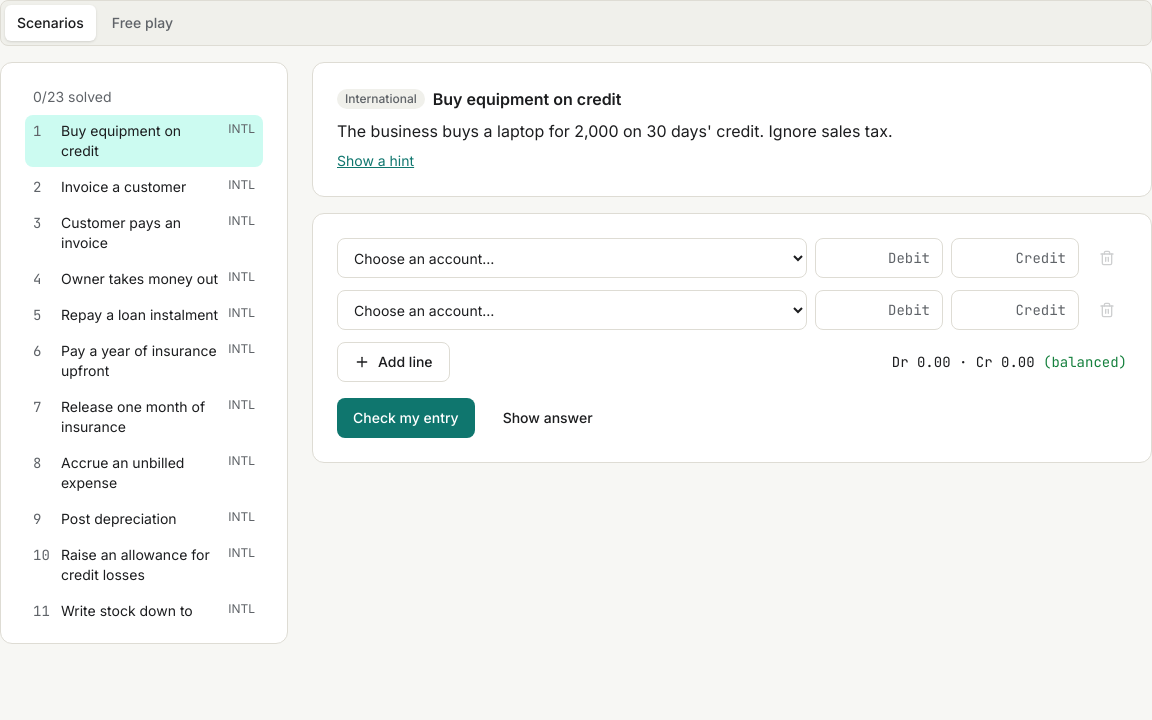
Test: JournalSimulator › explains a wrong side
Select "2000 · Accounts Payable" in the 1st dropdown named "account": (572, 258) left=337, top=238, right=807, bottom=278
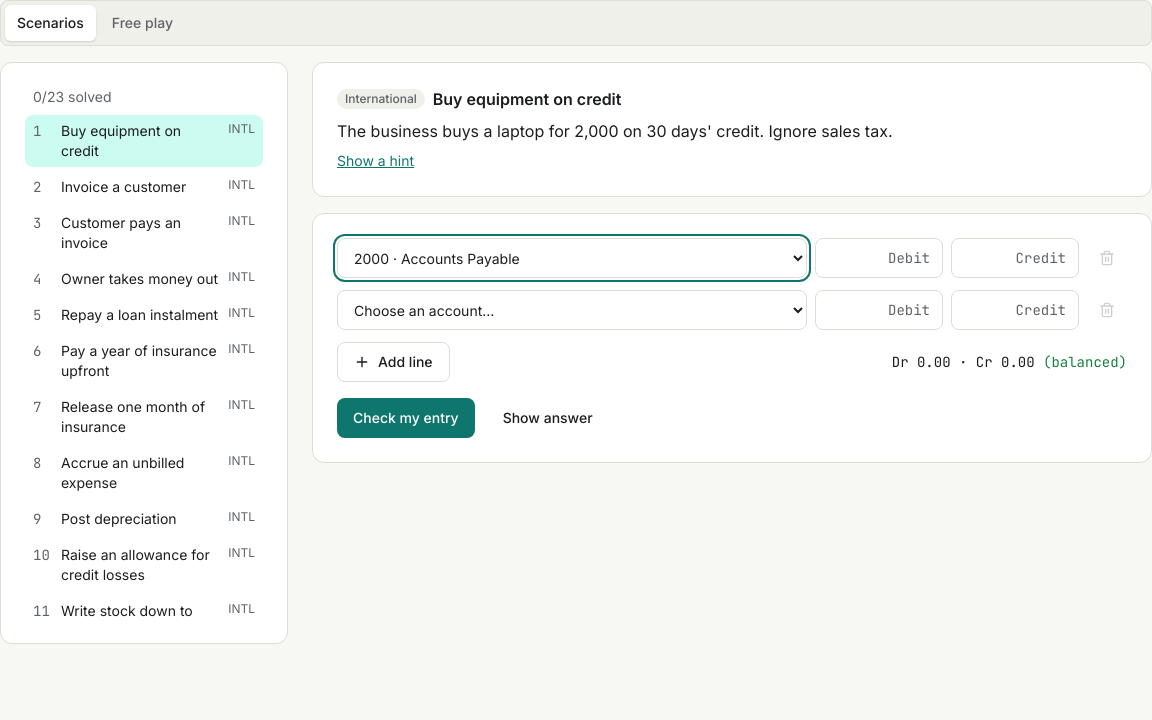
Select "1500 · Equipment" in the 2nd dropdown named "account": (572, 310) left=337, top=290, right=807, bottom=330
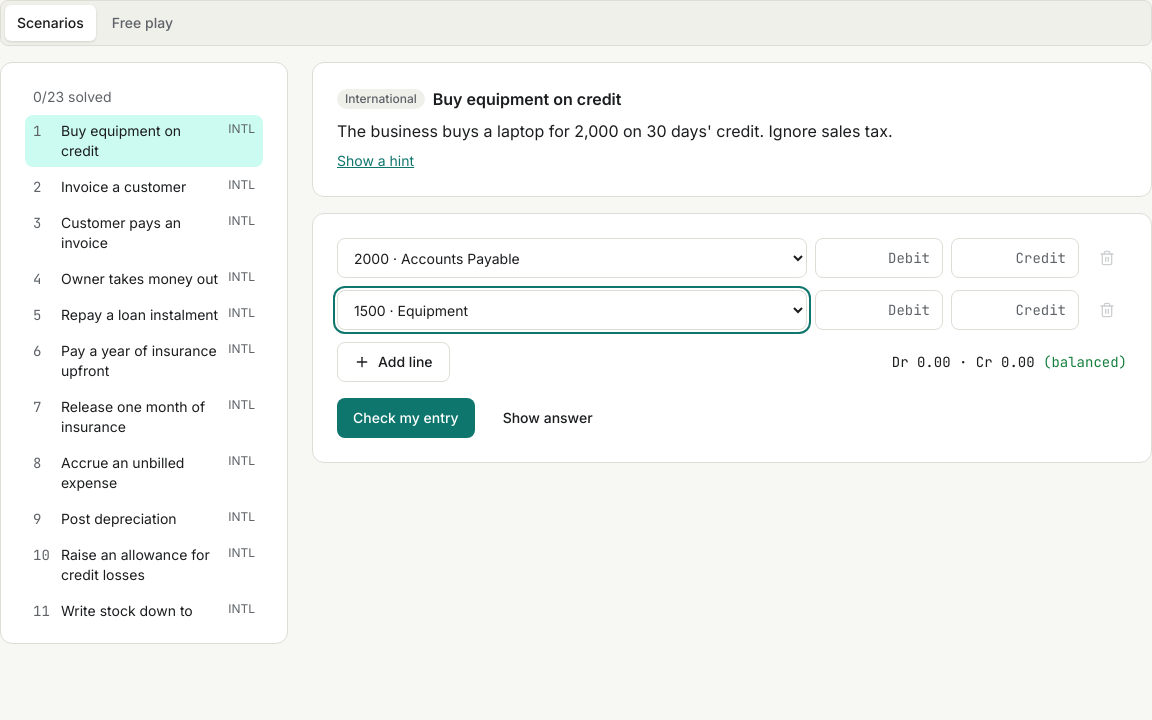
In the field named "Line 1 debit": (879, 258) left=815, top=238, right=943, bottom=278, type "2000"
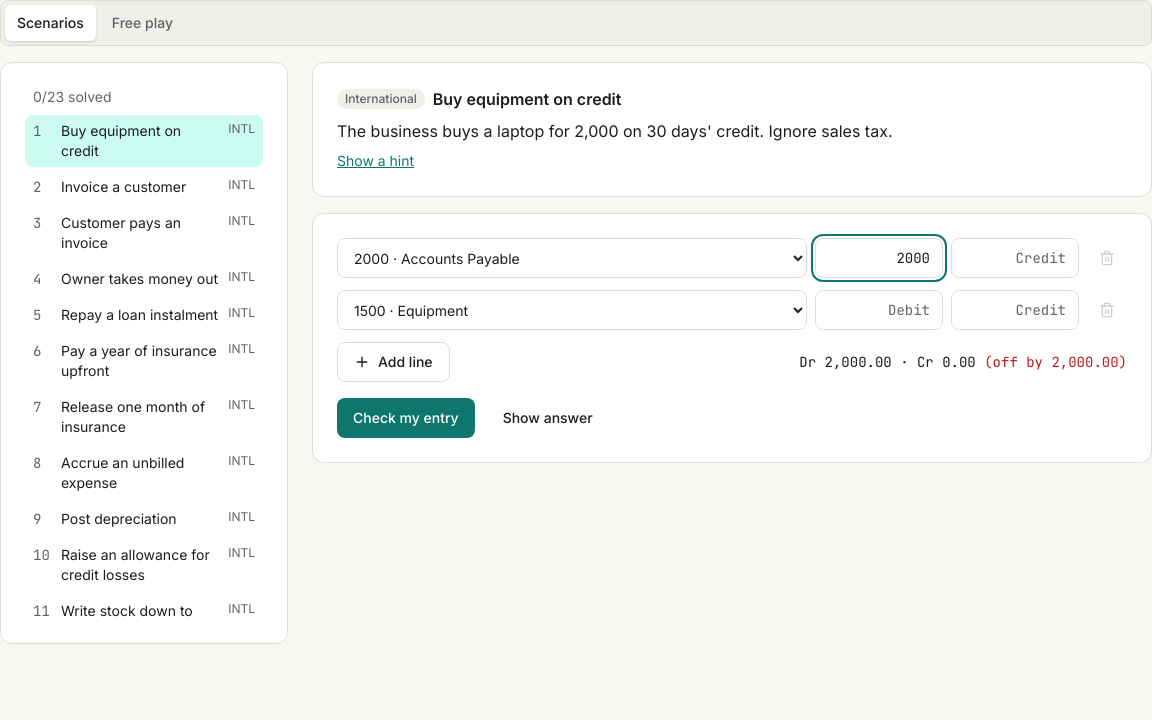
In the field named "Line 2 credit": (1015, 310) left=951, top=290, right=1079, bottom=330, type "2000"
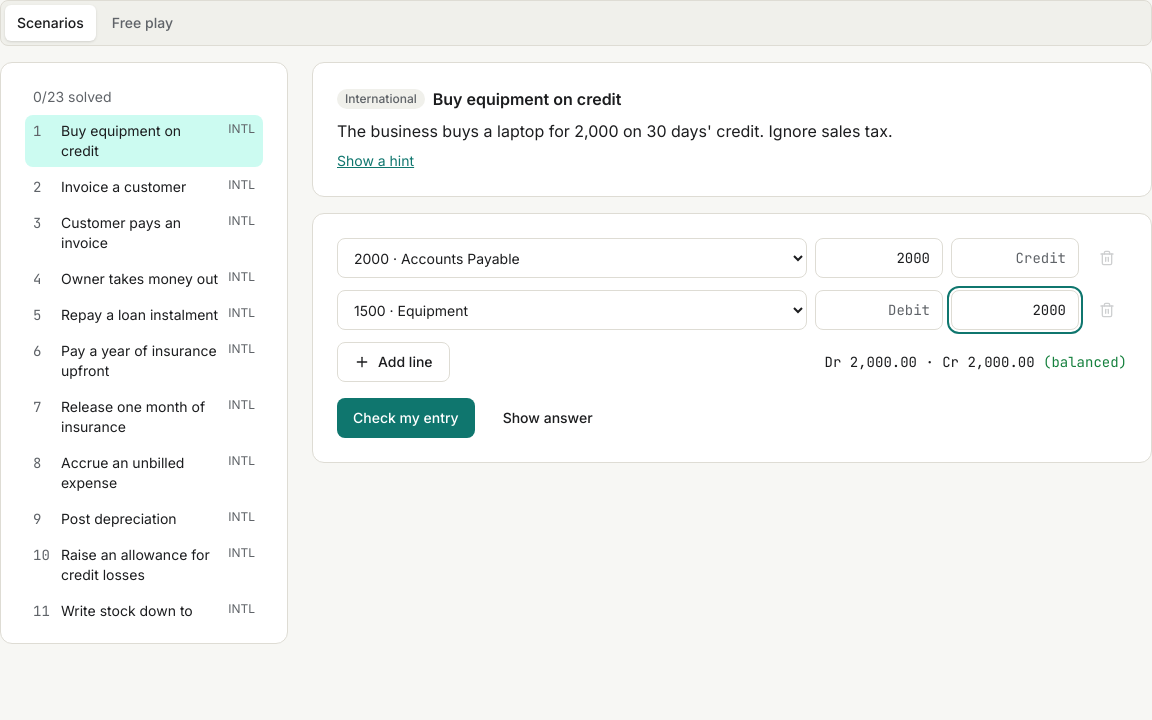
Click the button "Check my entry": (406, 418) left=337, top=398, right=475, bottom=438
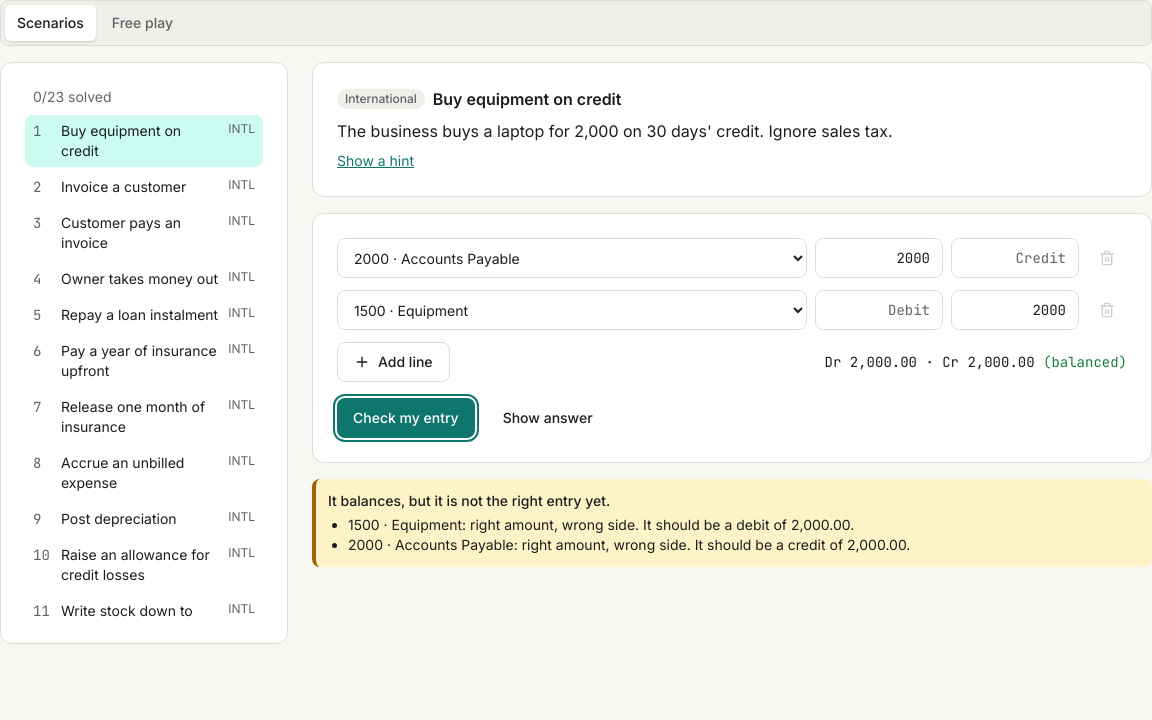
Check: the number of list items "right amount, wrong side" is 2, box left=348, top=516, right=854, bottom=533; left=348, top=536, right=910, bottom=553
